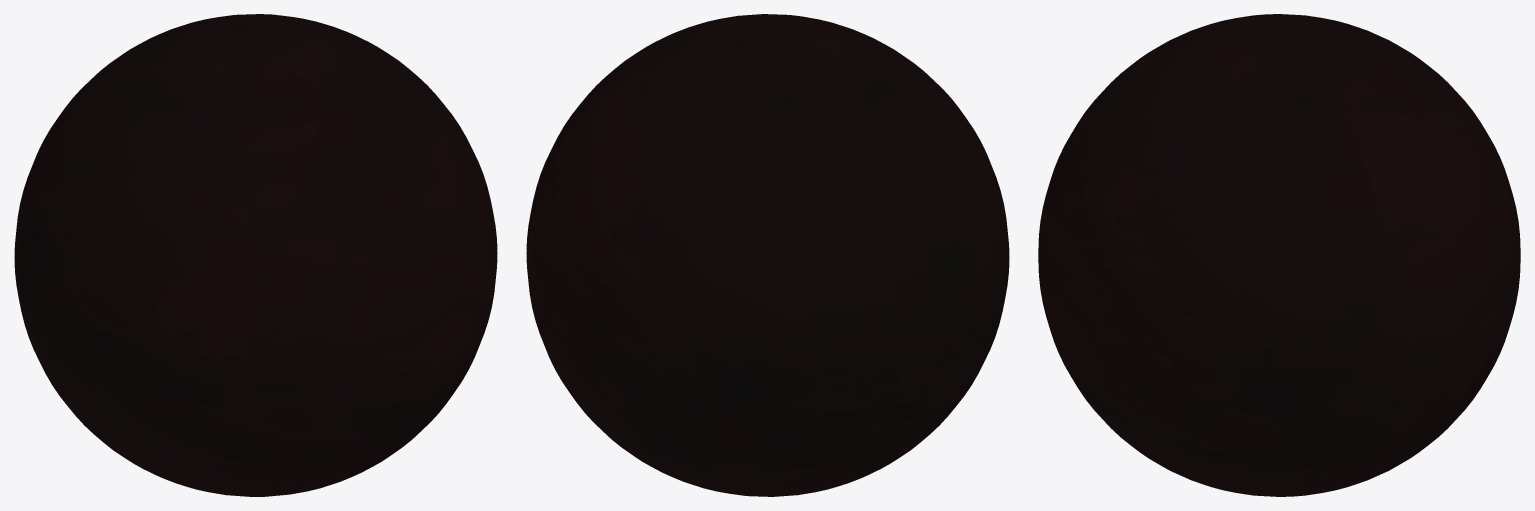
Rendered from planet5.glb.
3 views of the same model, side by side, from view 1: azimuth 30°, elevation 25°; view 2: azimuth 150°, elevation 25°; view 3: azimuth 270°, elevation 25° (orthographic).
Visible parts, largest first — view 1: defaultMaterial; view 2: defaultMaterial; view 3: defaultMaterial.
Part boxes in pixels (box(x1,y1,x2,y2)): defaultMaterial: box(14, 14, 497, 496); defaultMaterial: box(526, 14, 1009, 496); defaultMaterial: box(1038, 14, 1520, 496).
Size of the model in its own units: 2 by 2 by 2.
1 material, 1 textured.
